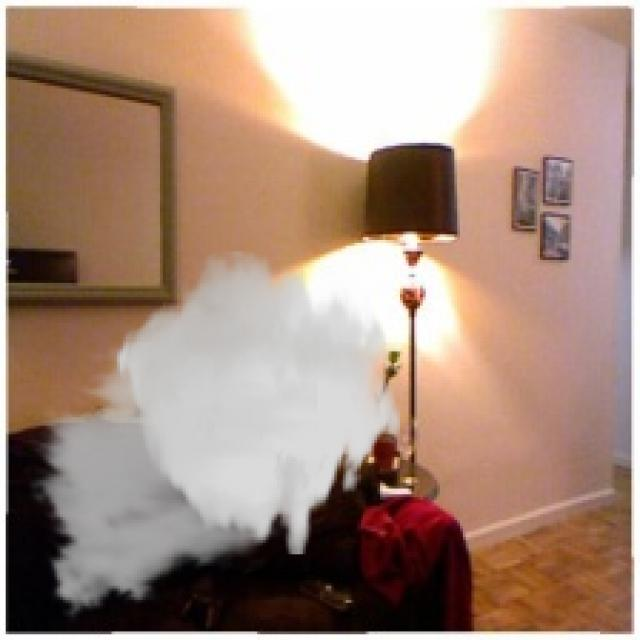smoke: (28, 251, 403, 626)
